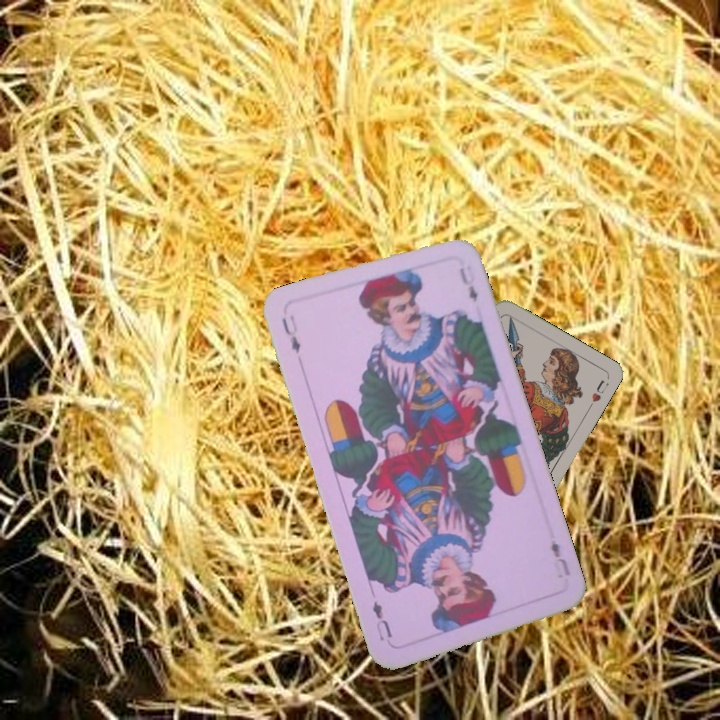EU: (278, 311, 303, 357), (547, 536, 573, 579)
